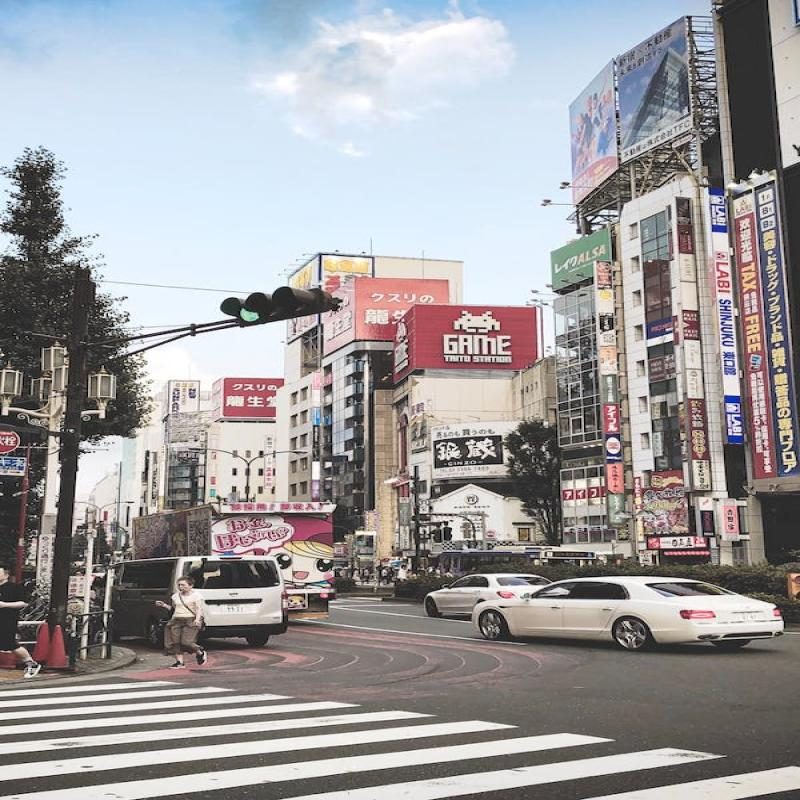car: (454, 565, 792, 669), (99, 540, 293, 650), (403, 555, 551, 618)
